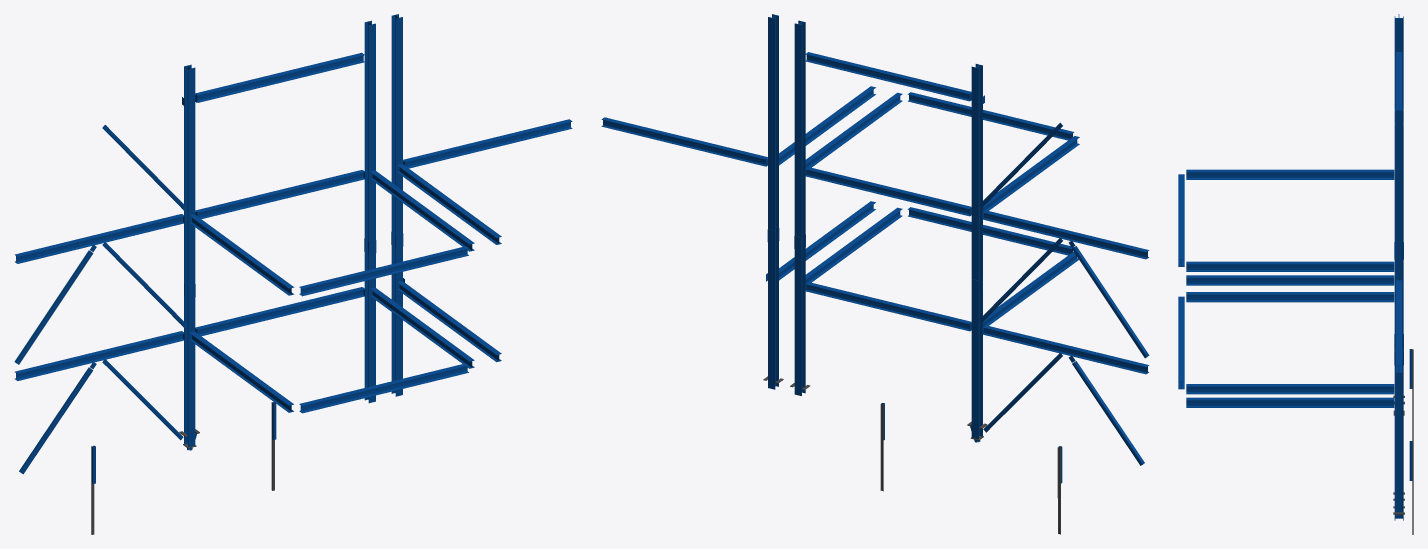
Rendered from GCC-AAV-13220-30.nwd(46).fbx.
The picture shows the model from 3 angles, left to right: view 1: azimuth 30°, elevation 25°; view 2: azimuth 150°, elevation 25°; view 3: azimuth 270°, elevation 25°; orthographic projection. The views are drawn at different scales.
Visible parts, largest first — view 1: Группа фасетов (×22); view 2: Группа фасетов (×22); view 3: Группа фасетов (×13).
Part boxes in pixels (box(x1,y1,x2,y2)): Группа фасетов (×22): box(14, 14, 572, 474); Группа фасетов (×22): box(601, 14, 1149, 465); Группа фасетов (×13): box(1178, 16, 1403, 520).
Size of the model in its own units: 1212 by 938 by 426.
